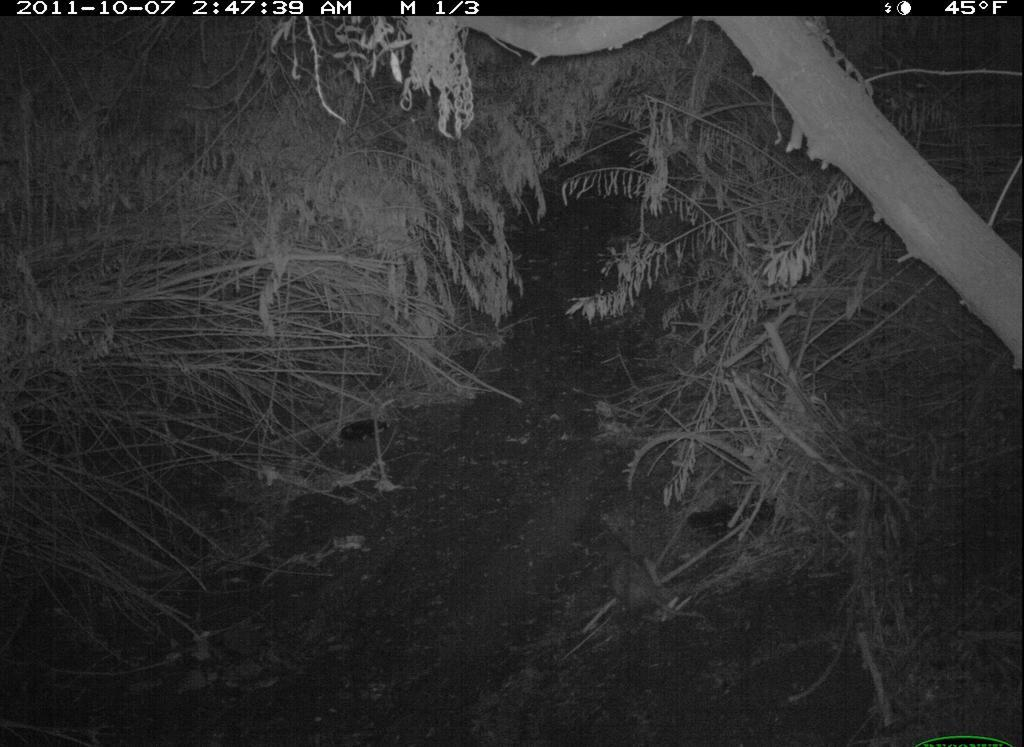opossum: (596, 550, 713, 631)
